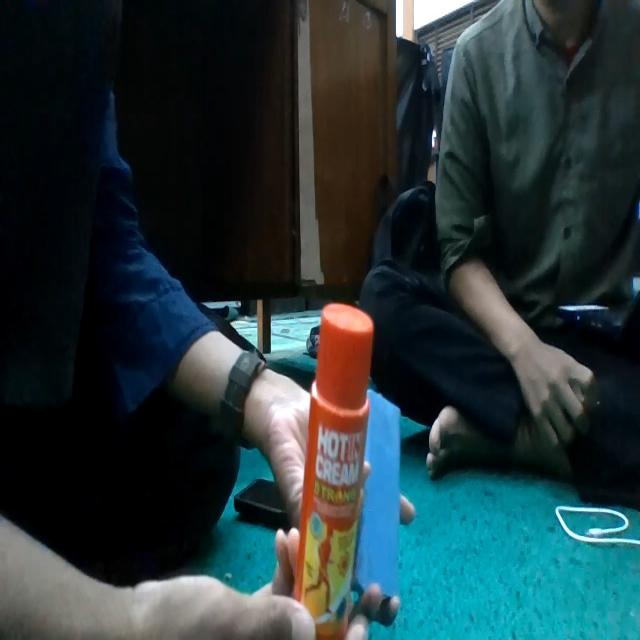Boncabe: (295, 304, 372, 639)
Powerbank: (351, 389, 402, 596)
